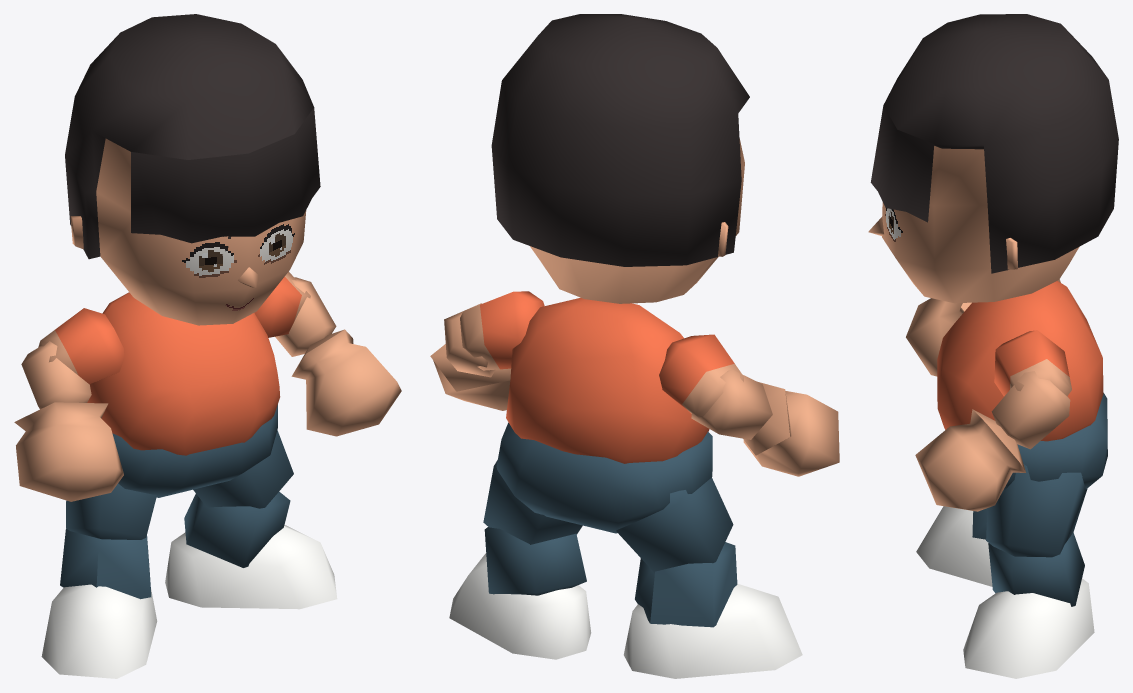
3 views of the same model, side by side, from view 1: azimuth 30°, elevation 25°; view 2: azimuth 150°, elevation 25°; view 3: azimuth 270°, elevation 25° (orthographic). The views are drawn at different scales.
Visible parts, largest first — view 1: Character; view 2: Character; view 3: Character.
Boxes of the visible parts, <box> form: Character: <box>14,14,401,678</box>; Character: <box>430,14,839,678</box>; Character: <box>868,14,1118,678</box>.
Size of the model in its own units: 1.98 by 2.88 by 1.14.
9 materials, 2 textured.
